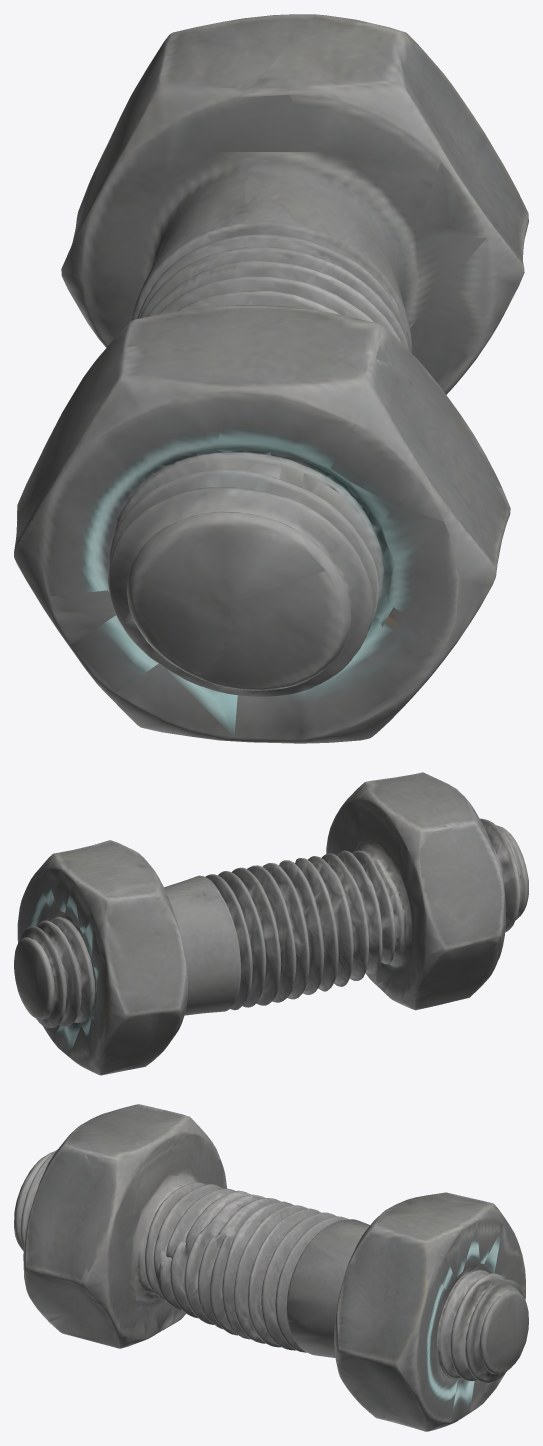
File: Artifact_TC1.fbx
3 views of the same model, one above another, from view 1: azimuth 30°, elevation 25°; view 2: azimuth 150°, elevation 25°; view 3: azimuth 270°, elevation 25° (orthographic). The views are drawn at different scales.
Visible parts, largest first — view 1: Body_TC1; view 2: Body_TC1; view 3: Body_TC1.
Part boxes in pixels (box(x1,y1,x2,y2)): Body_TC1: box(14, 14, 528, 743); Body_TC1: box(14, 772, 528, 1075); Body_TC1: box(14, 1104, 528, 1431).
Bounding box in the file's own units: 0.1722 × 0.0828 × 0.2.
